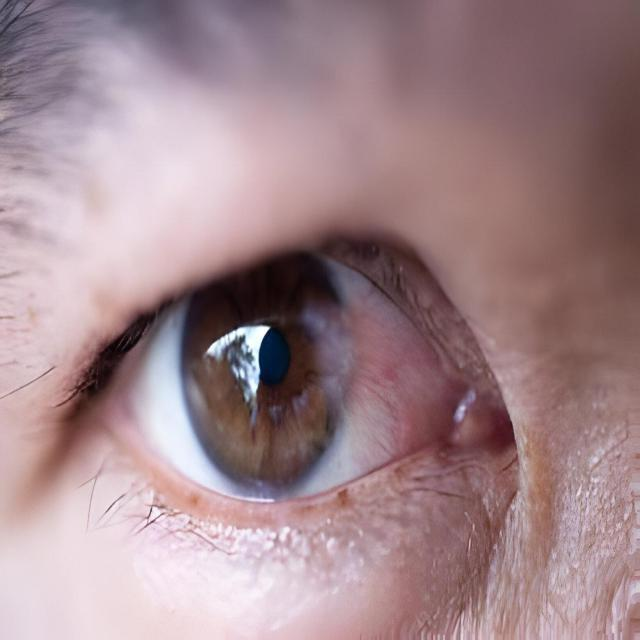Pterygium: (289, 277, 468, 468)
